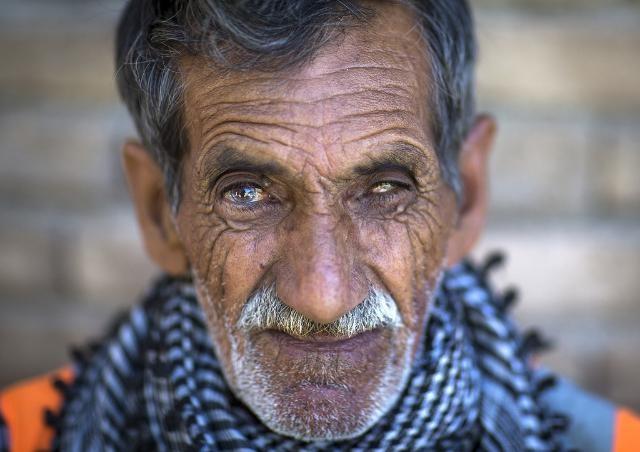crows_feet: (190, 187, 224, 237), (413, 174, 443, 226)
forehead: (325, 60, 399, 84), (203, 112, 261, 142), (355, 123, 413, 147), (347, 100, 405, 124), (268, 116, 298, 152), (288, 92, 336, 112), (206, 76, 258, 90)
frown_line: (306, 178, 338, 214)
gummy_smile: (247, 259, 273, 299), (368, 260, 396, 294)
masseter: (402, 226, 432, 262), (200, 245, 228, 280)
